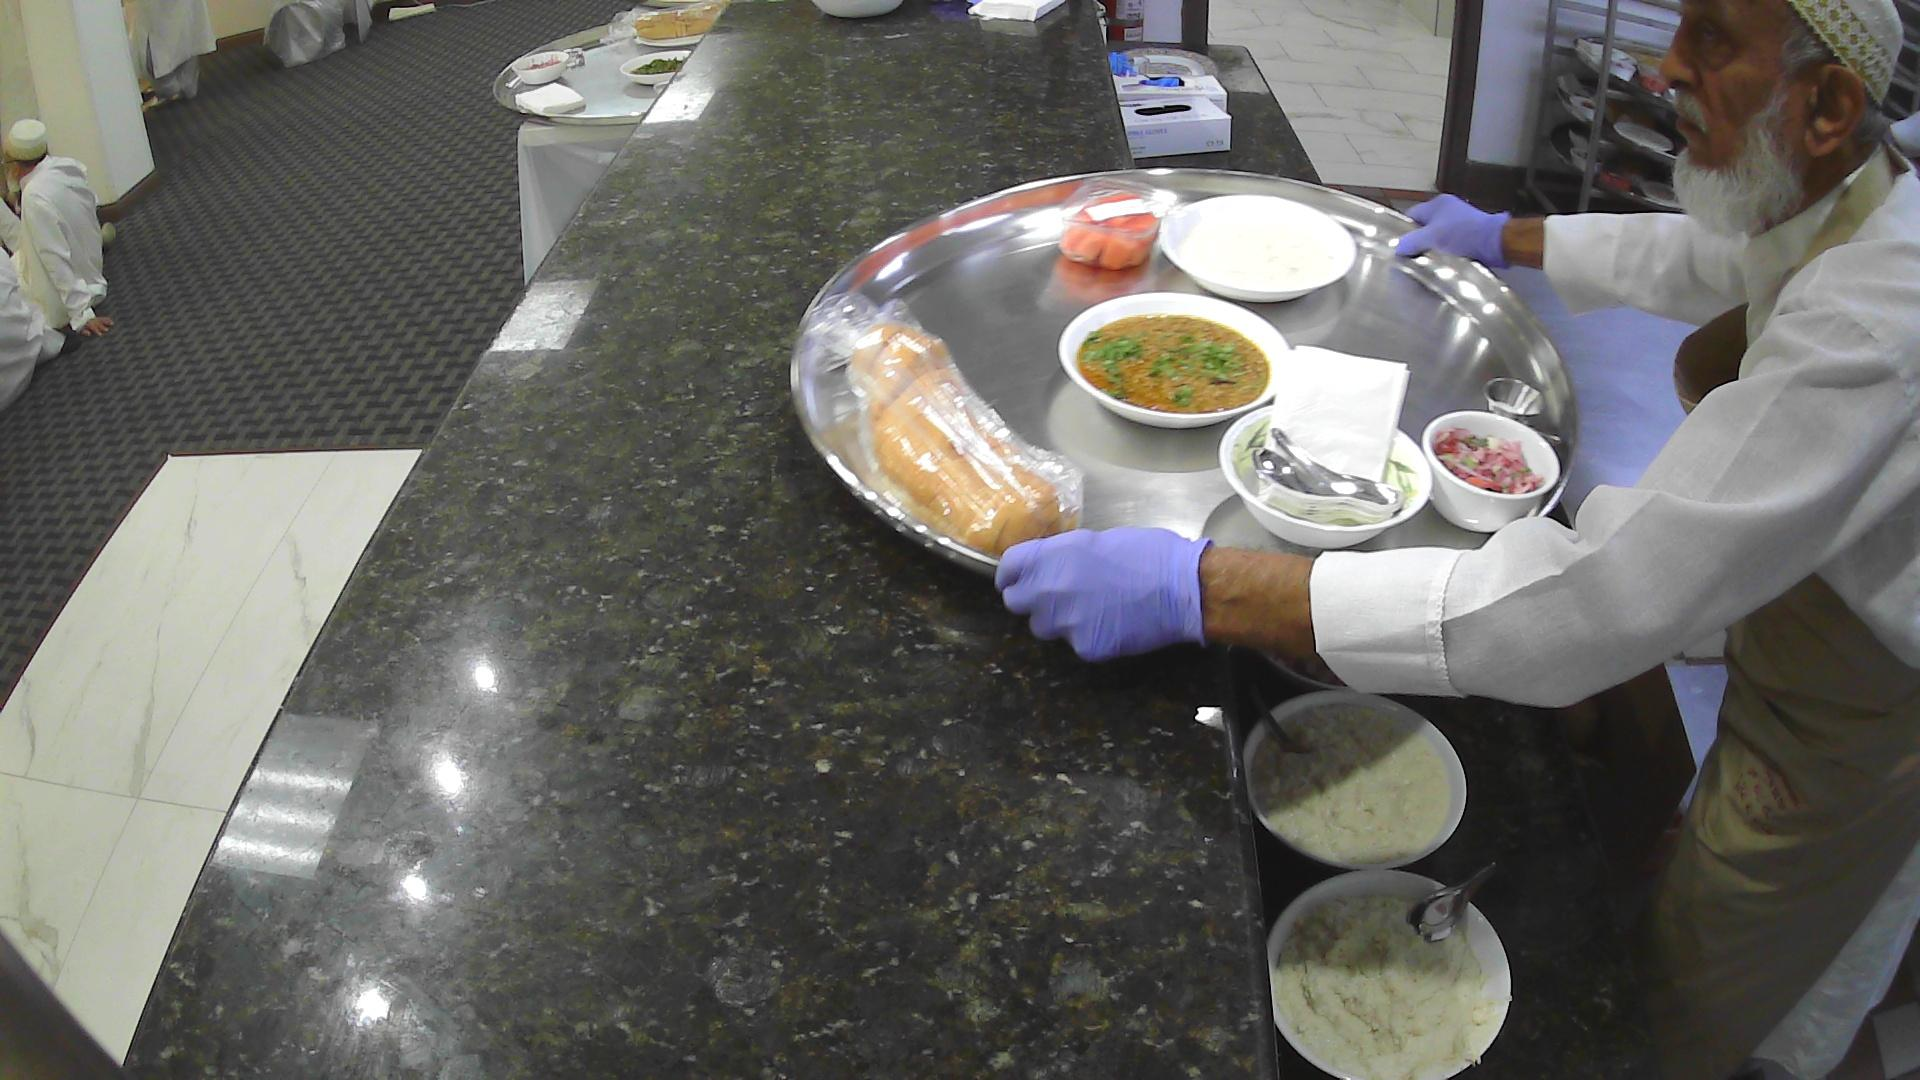thaal: (787, 164, 1581, 589), (492, 20, 716, 128), (1547, 119, 1689, 215), (1555, 74, 1688, 167), (1572, 36, 1687, 113)
